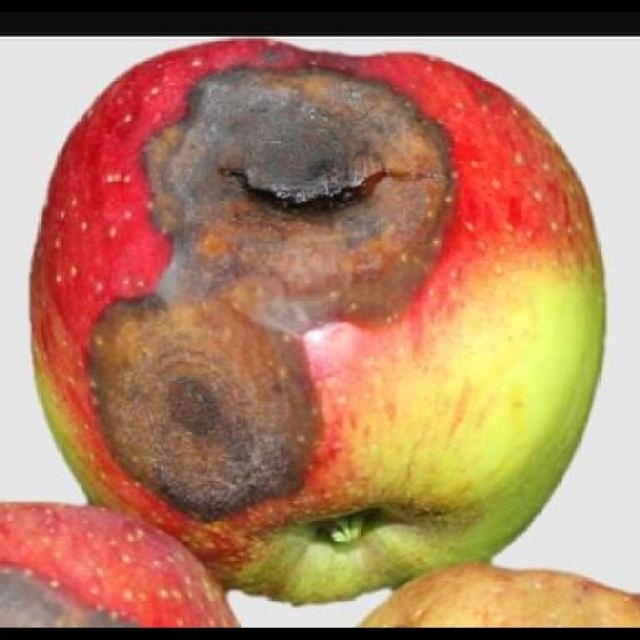Rotten Apple: (25, 36, 612, 610)
